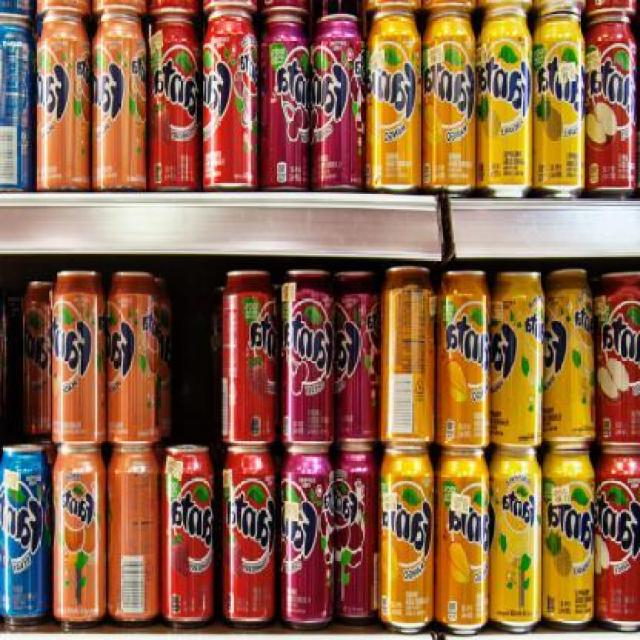Drinks: (476, 12, 533, 199), (220, 448, 278, 630), (378, 447, 434, 635), (366, 10, 422, 195), (278, 448, 334, 632), (379, 266, 436, 446), (51, 447, 107, 630), (434, 450, 489, 636), (160, 442, 215, 628), (202, 9, 258, 191), (279, 269, 335, 449), (36, 12, 92, 192), (489, 270, 545, 450), (222, 268, 278, 448), (585, 11, 638, 200), (421, 15, 476, 196), (542, 449, 596, 633), (488, 449, 542, 633), (51, 269, 107, 446), (311, 12, 366, 192), (435, 268, 490, 448), (148, 9, 202, 191), (258, 13, 312, 193), (92, 13, 146, 193), (107, 448, 161, 628), (533, 13, 585, 199), (0, 445, 52, 629), (107, 270, 159, 448), (544, 267, 593, 445), (594, 270, 638, 452), (335, 268, 379, 448), (335, 448, 379, 628), (596, 452, 638, 634)
